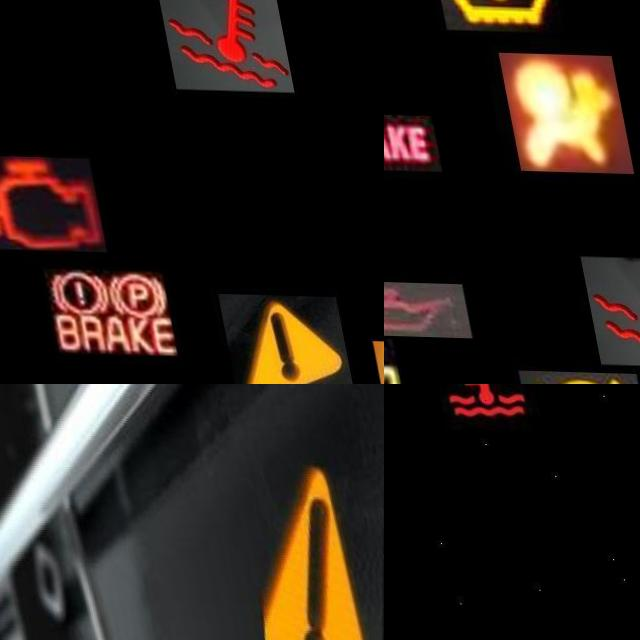Central Warning lamp: (204, 290, 340, 384)
Engine cooling system: (154, 0, 289, 89), (566, 253, 640, 364)
